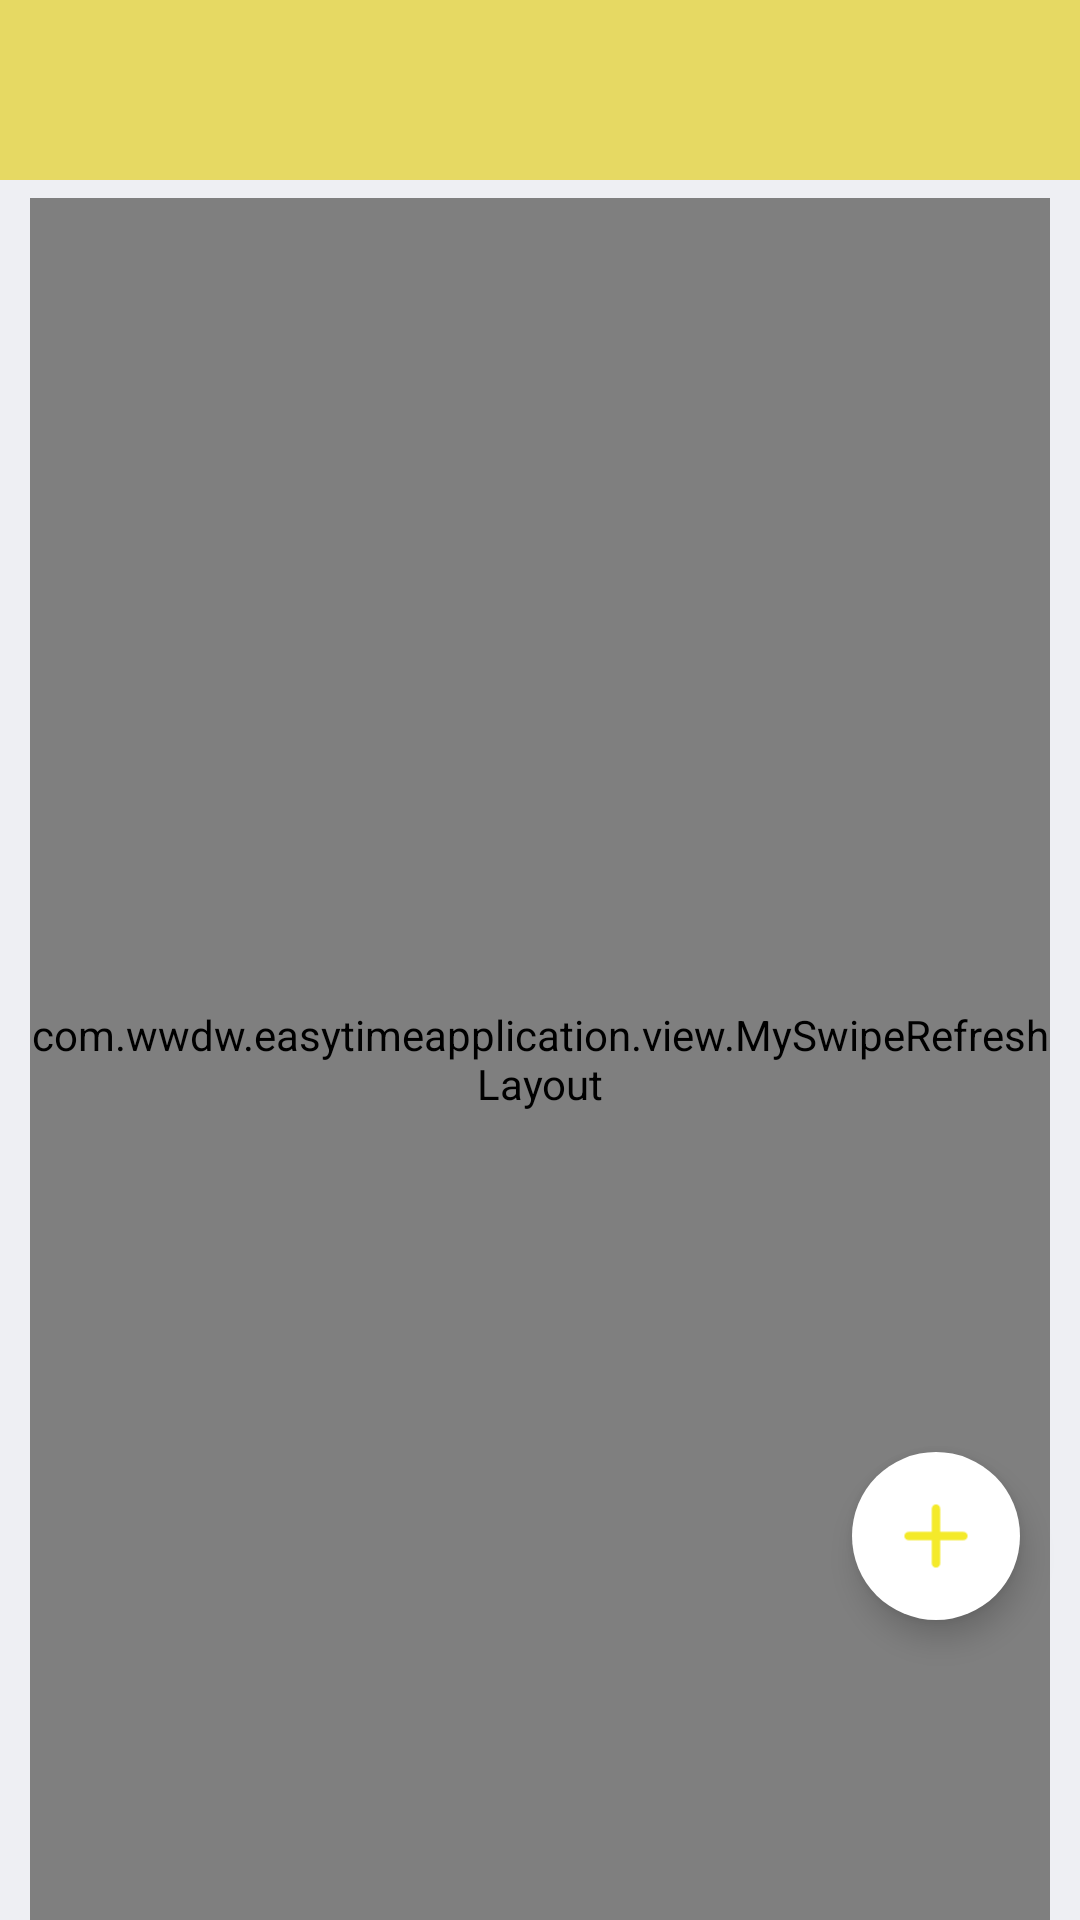

Named icons in this screenshot (1080 x 1920) and their bounding boxes, (x1, y1, x2, y2):
add: (852, 1452, 1020, 1620)
